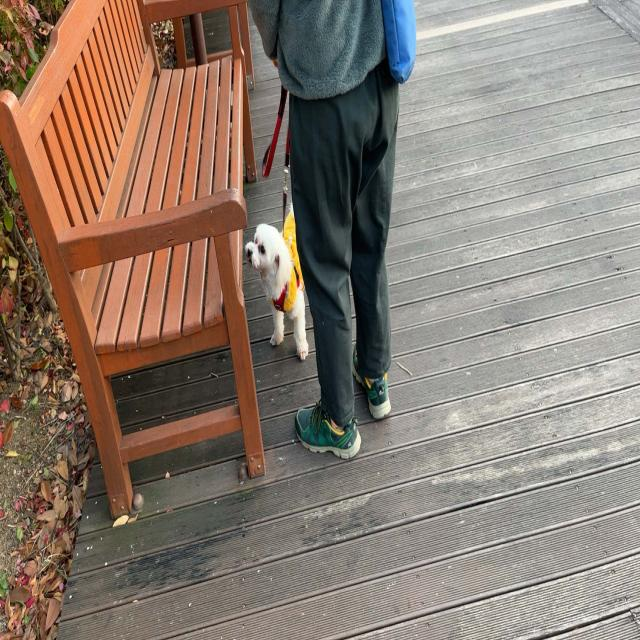Leashed_Dog: (245, 116, 321, 365)
